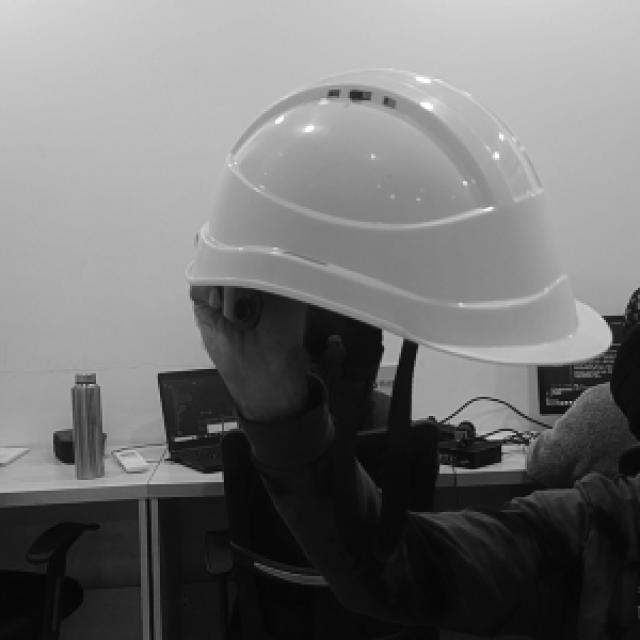safety_helmet: (191, 70, 613, 367)
